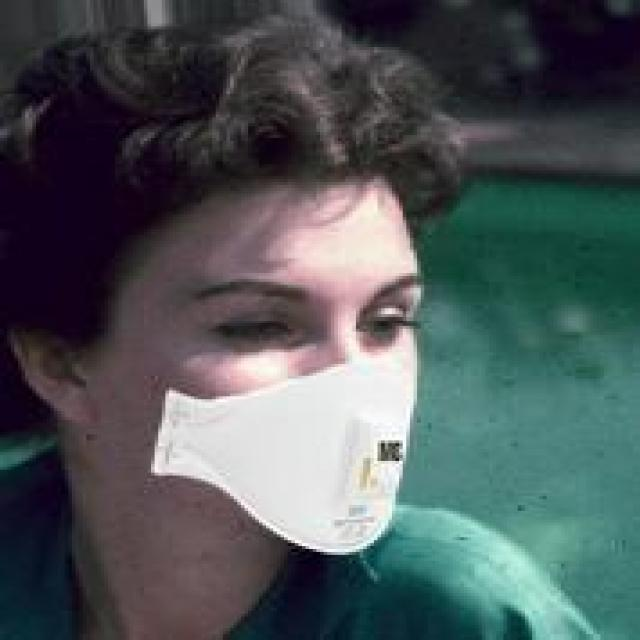mask: (11, 32, 453, 572)
